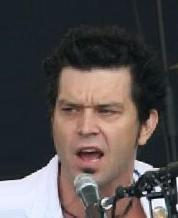face: (60, 99, 124, 170)
